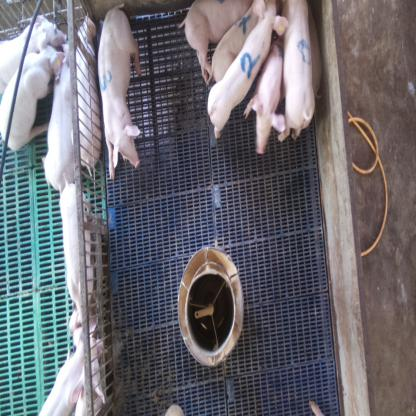2: (240, 53, 260, 78)
3: (99, 70, 113, 92)
7: (235, 14, 251, 36)
N-A: (297, 37, 311, 66)
